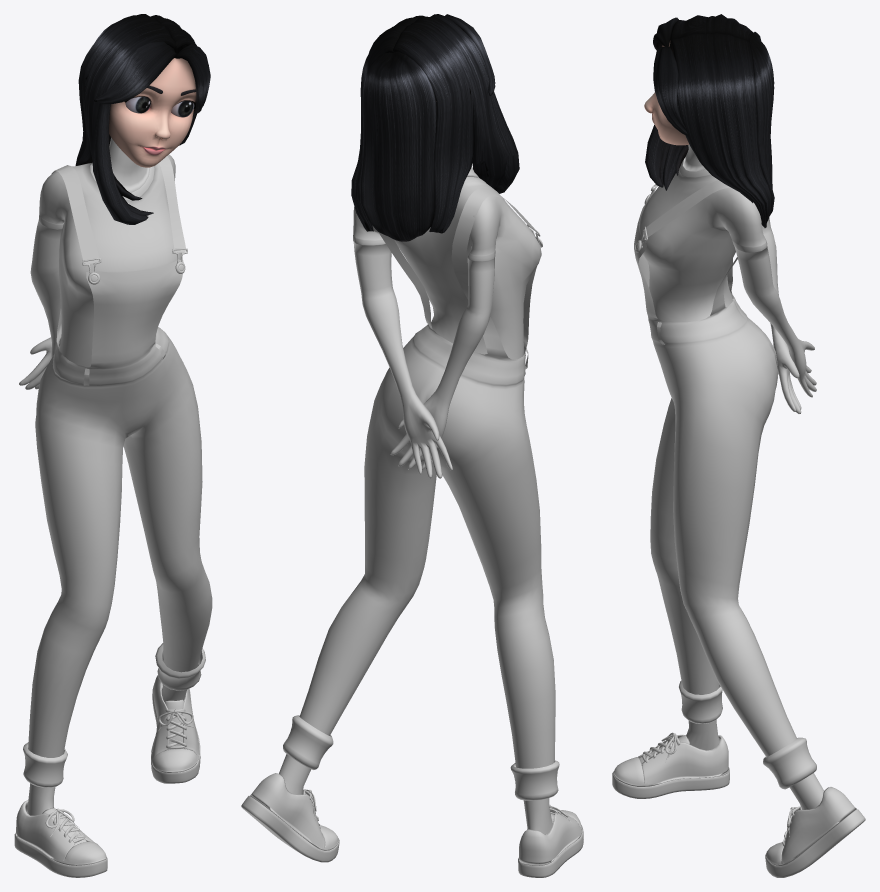
The model's file is Female Full body Sketchfab.fbx.
3 renders of one model, left to right at view 1: azimuth 30°, elevation 25°; view 2: azimuth 150°, elevation 25°; view 3: azimuth 270°, elevation 25°, orthographic. The views are drawn at different scales.
Parts seen in each view (by area): view 1: Body, Head; view 2: Body, Head; view 3: Body, Head.
Boxes of the visible parts, <box> form: Body: <box>14,137,212,877</box>; Head: <box>75,14,210,224</box>; Body: <box>241,166,583,877</box>; Head: <box>351,14,519,241</box>; Body: <box>612,144,865,877</box>; Head: <box>644,14,774,227</box>.
Size of the model in its own units: 1.99 by 6.42 by 1.8.
